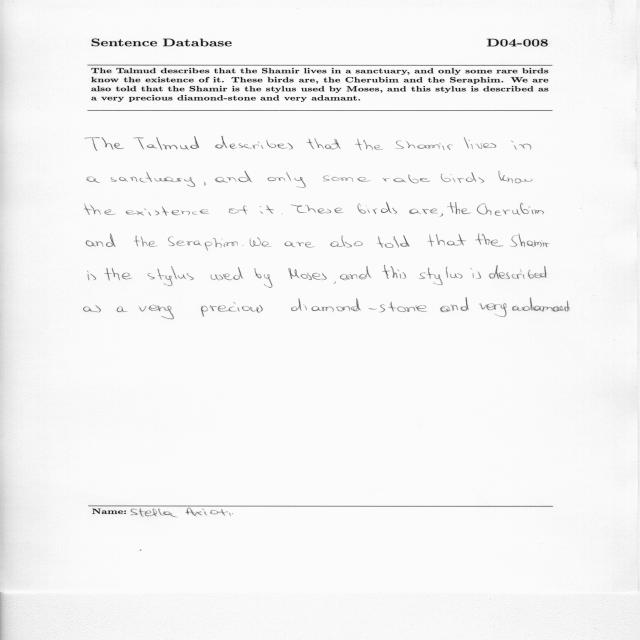word: (291, 299, 427, 313), (111, 172, 196, 187), (168, 236, 238, 251), (215, 136, 293, 149), (201, 302, 263, 317), (134, 136, 200, 150), (148, 266, 194, 286), (477, 203, 544, 216), (512, 297, 570, 312), (419, 266, 463, 285), (126, 206, 209, 216), (489, 265, 547, 279), (267, 172, 306, 188), (395, 141, 453, 151), (85, 137, 124, 151), (428, 234, 467, 247), (510, 234, 549, 247), (139, 305, 174, 319), (291, 205, 344, 214), (441, 172, 484, 183), (358, 202, 397, 214), (288, 268, 327, 280), (215, 171, 253, 183), (340, 266, 372, 280), (440, 298, 469, 313), (377, 235, 410, 248), (211, 267, 244, 280), (383, 175, 430, 184), (499, 171, 533, 183), (330, 236, 363, 248), (479, 303, 507, 317), (86, 234, 116, 247), (464, 137, 496, 149), (307, 138, 341, 149), (475, 234, 503, 247), (104, 268, 132, 281), (255, 268, 273, 288), (355, 139, 383, 151), (323, 175, 371, 182), (382, 265, 406, 279), (85, 205, 116, 215), (447, 202, 471, 214), (134, 236, 158, 247), (250, 237, 272, 247), (285, 241, 315, 248), (511, 141, 531, 150), (409, 208, 438, 214), (229, 206, 248, 215), (260, 205, 274, 214), (471, 268, 482, 279), (84, 305, 101, 312), (87, 176, 100, 183), (88, 271, 96, 280), (117, 307, 128, 313), (439, 213, 443, 217), (204, 182, 206, 186), (333, 282, 336, 284), (242, 245, 244, 246), (281, 214, 283, 214), (569, 310, 570, 310)
